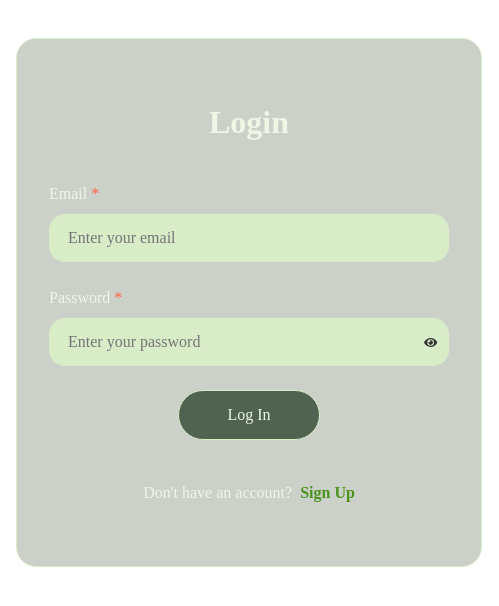
Test: <LoginForm/> component › Render LoginForm component - Password error message - empty password
Type "testEmail@gmail.com" into the field with placeholder "Enter your email" at coordinates (249, 238), box [49,214,449,262]
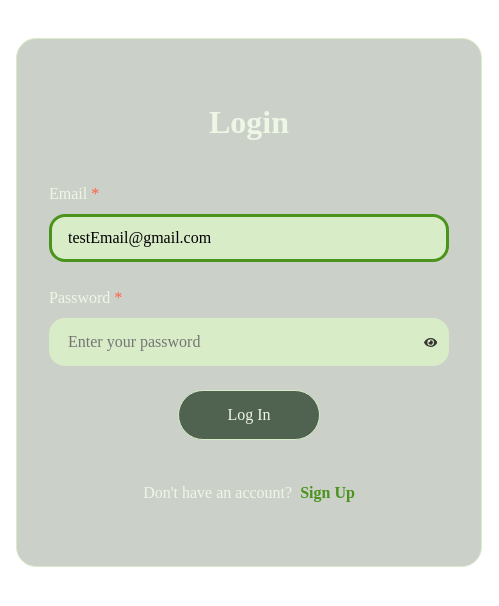
Click the button "Log In" at coordinates (249, 415), box [178,390,320,440]
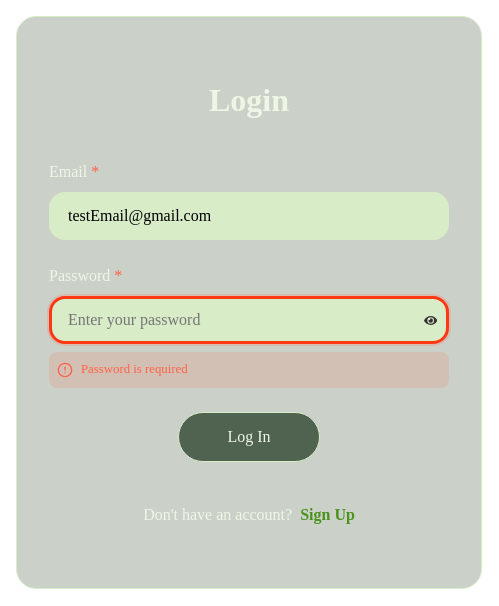
expect the text "Password is required" is shown: met, box [81,362,188,377]
expect the text with test id "error-input-password-test-id" reads "Password is required": met, box [81,362,188,376]
